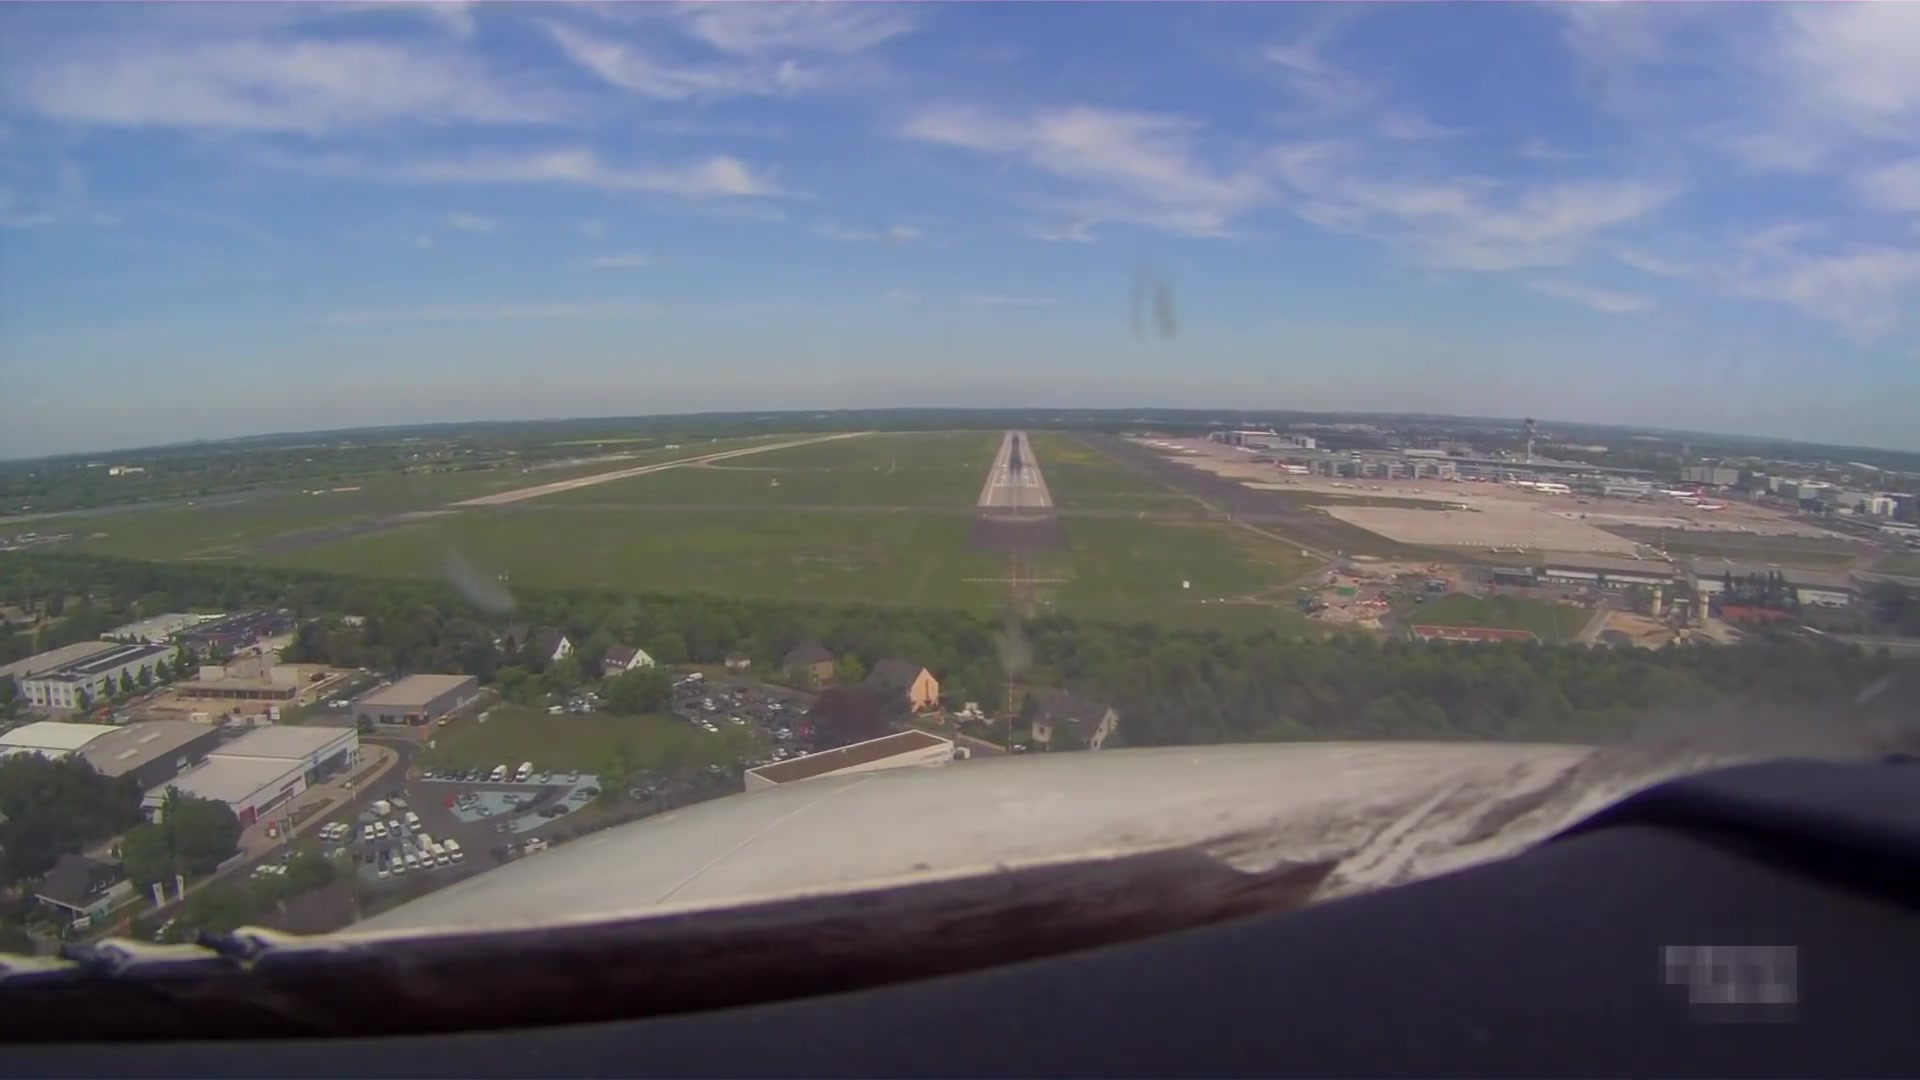runway: (976, 433, 1055, 512)
